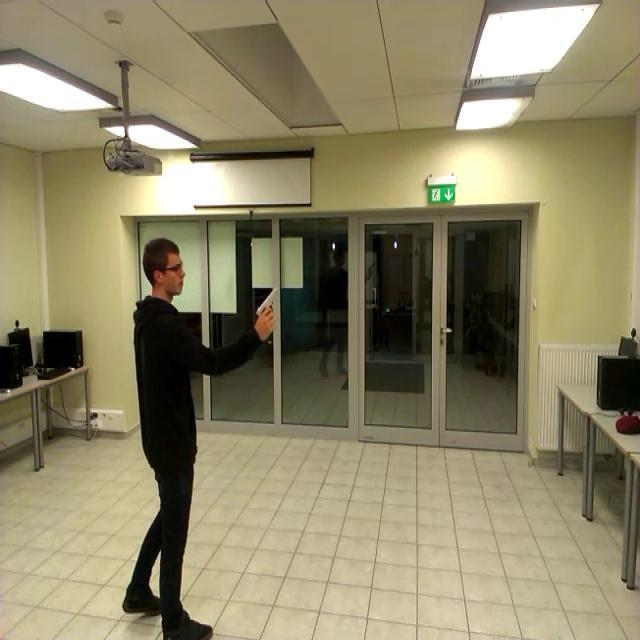Gun: (255, 280, 298, 342)
